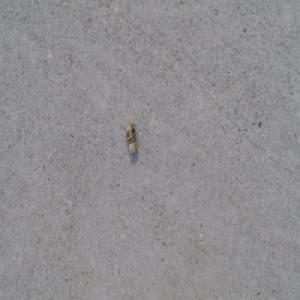BoltNutSet: (125, 123, 139, 154)
